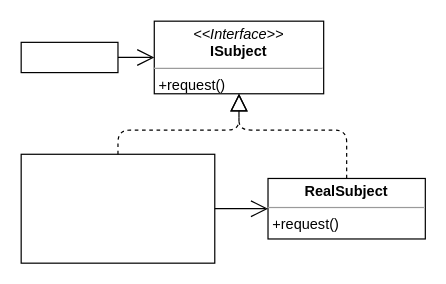
Image size: 446x284. Some labels were removed from this diagram. Here are the shapes that lost their labels. From the top down, the centre of each, then its label:
(x=69, y=57): Client
(x=117, y=208): Proxy -_realSubject: RealSubject + request() +checkAccess():bool +logAccess()
